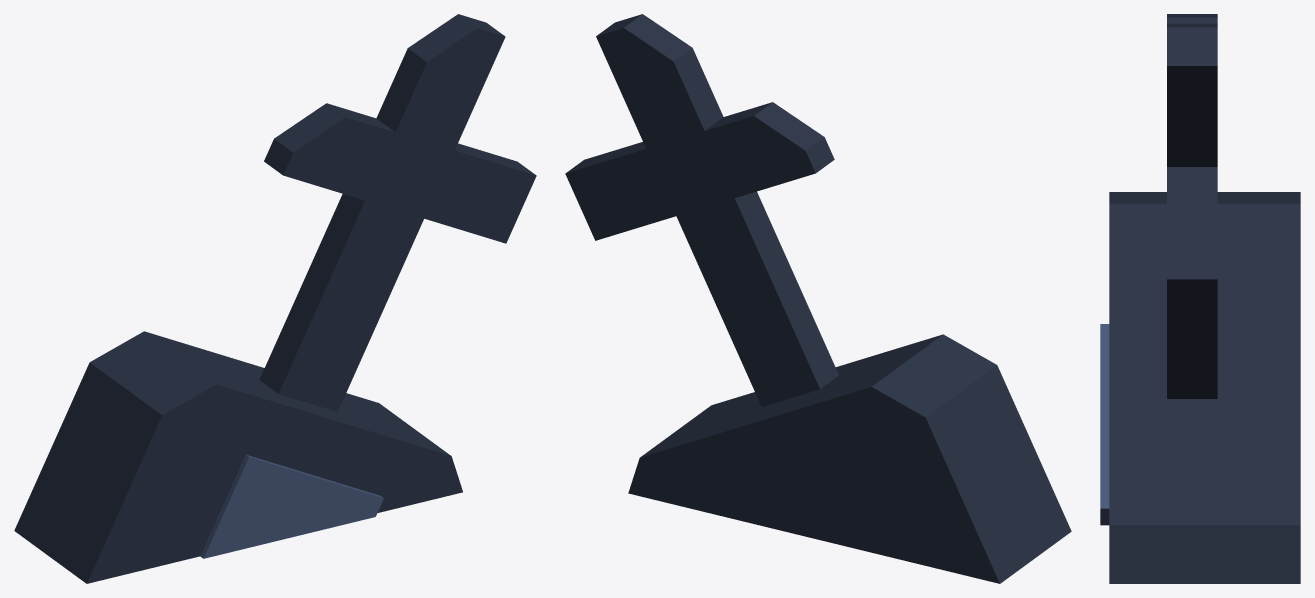
File: Tombstone.FBX
3 views of the same model, side by side, from view 1: azimuth 30°, elevation 25°; view 2: azimuth 150°, elevation 25°; view 3: azimuth 270°, elevation 25° (orthographic). The views are drawn at different scales.
Parts seen in each view (by area): view 1: Broken tombstone; view 2: Broken tombstone; view 3: Broken tombstone.
Boxes of the visible parts, x1=… form: Broken tombstone: x1=14, y1=14, x2=536, y2=583; Broken tombstone: x1=565, y1=14, x2=1071, y2=583; Broken tombstone: x1=1100, y1=14, x2=1300, y2=583.
Bounding box in the file's own units: 14.11 × 12.56 × 3.94.
